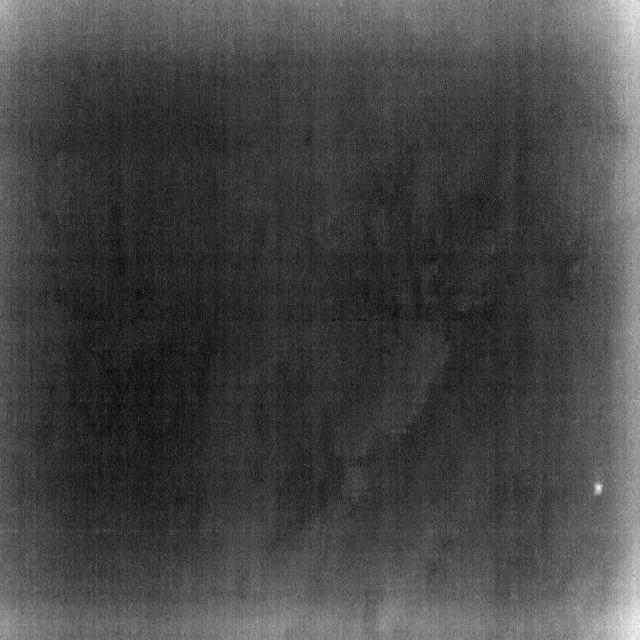deer: (593, 481, 602, 496)
